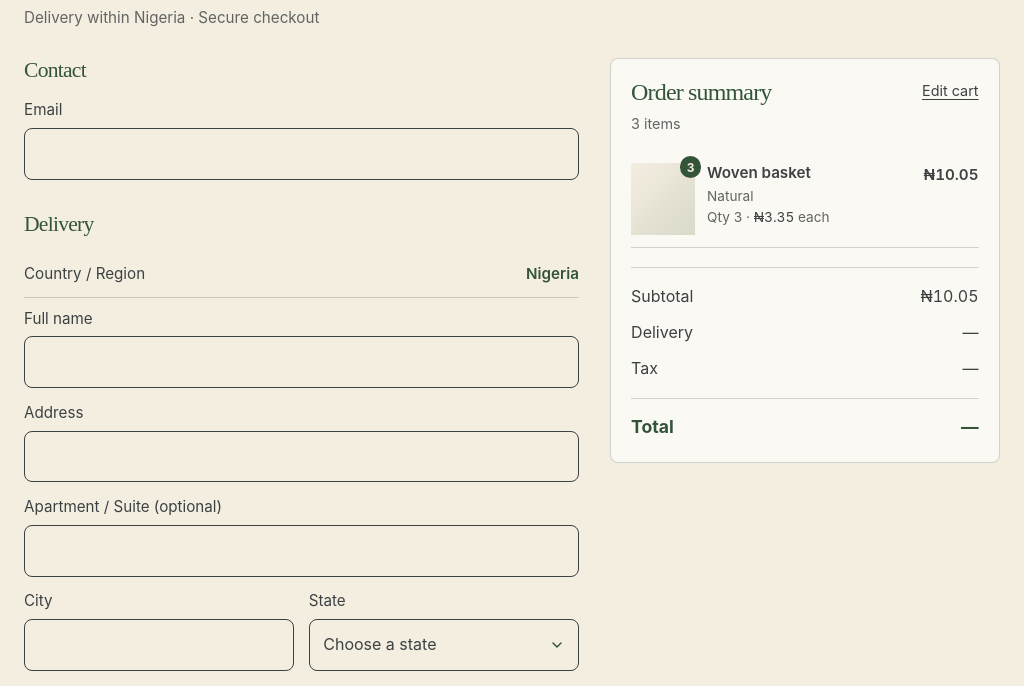
Test case: checkout flow › shows no-delivery state with payment visible but progression disabled
Select "FCT" in the dropdown labelled "State" at (444, 645), box [309,619,579,671]
(page scrolled)
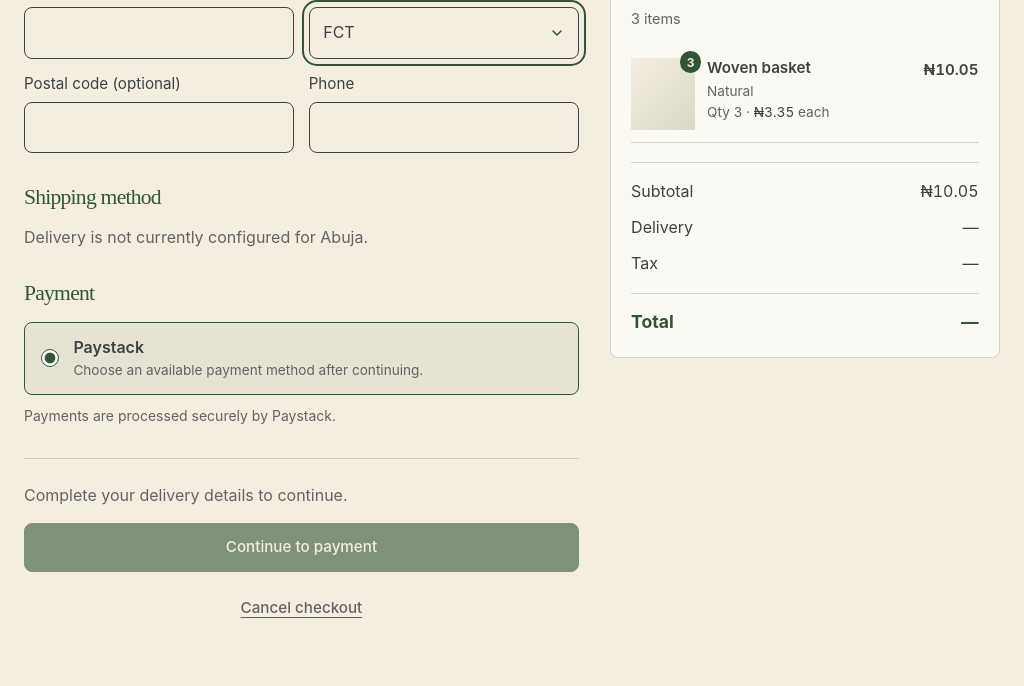
Expected: the text "Paystack" is shown, [73,337,144,357]
Expected: the text "Delivery is not currently configured for Abuja." is shown, [24,227,368,247]
